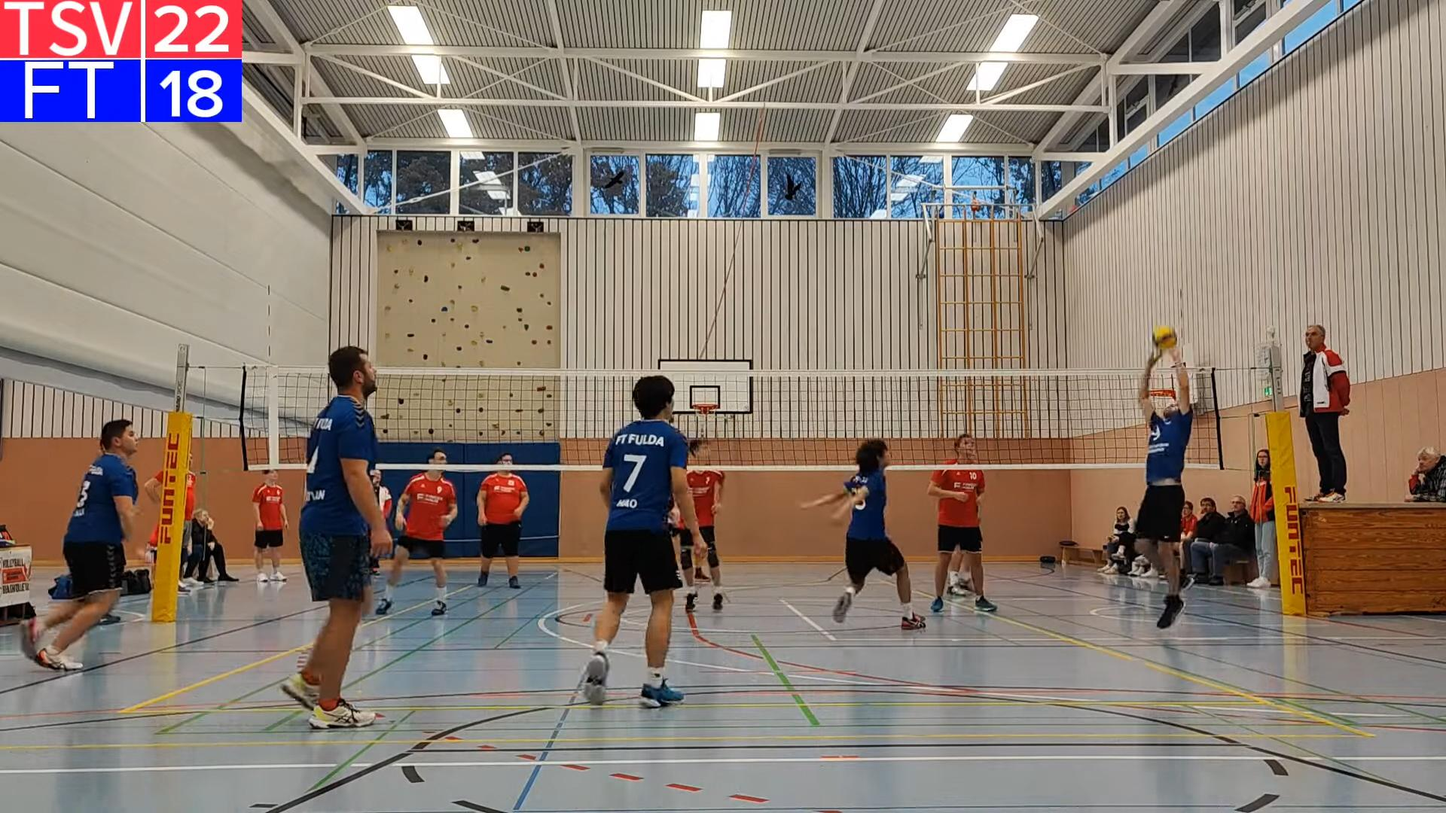alzata: (1138, 347, 1196, 632)
